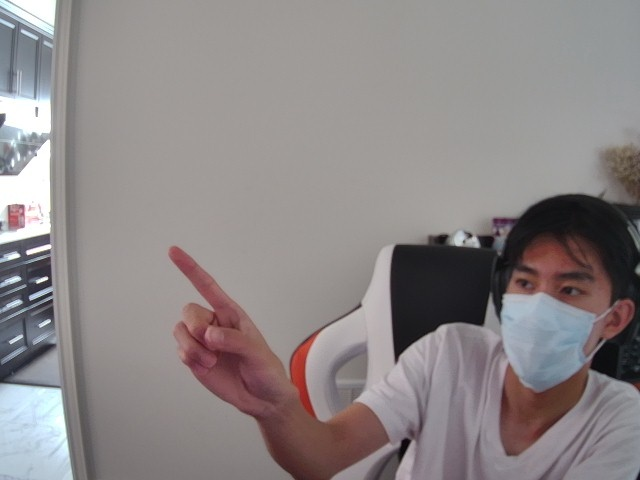Z: (160, 246, 289, 418)
